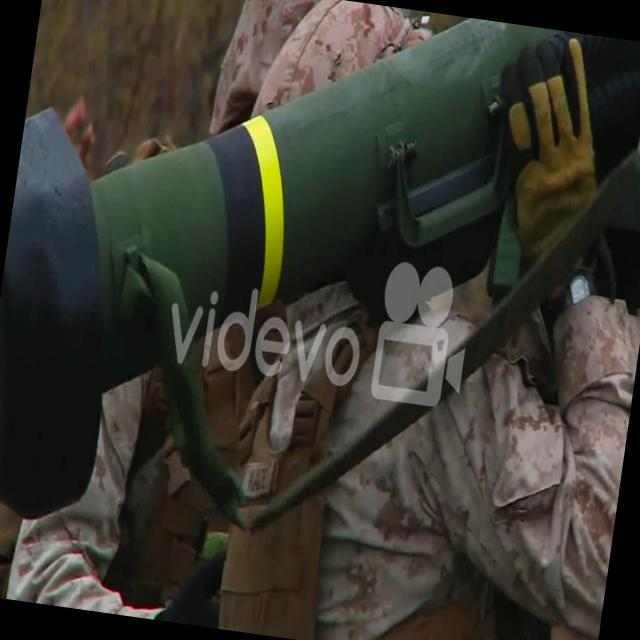rocket: (0, 0, 535, 567)
